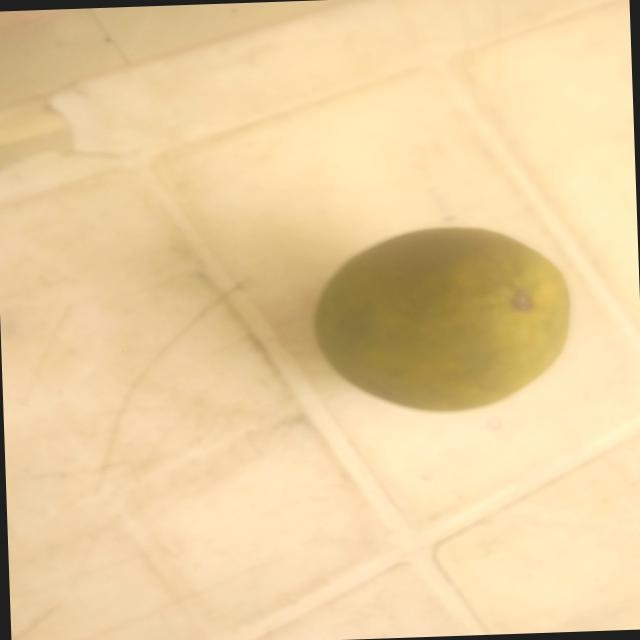agrume: (292, 209, 592, 431)
